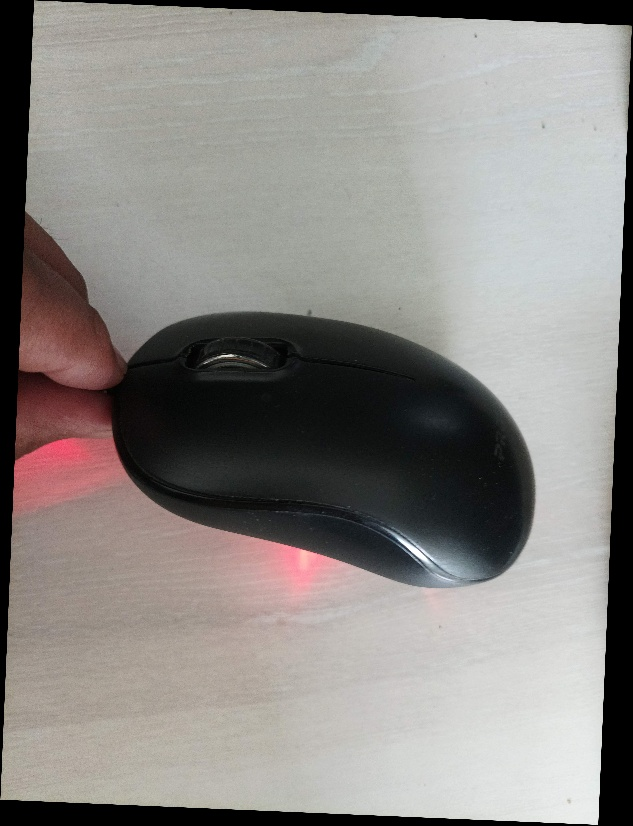mouse: (106, 309, 540, 593)
